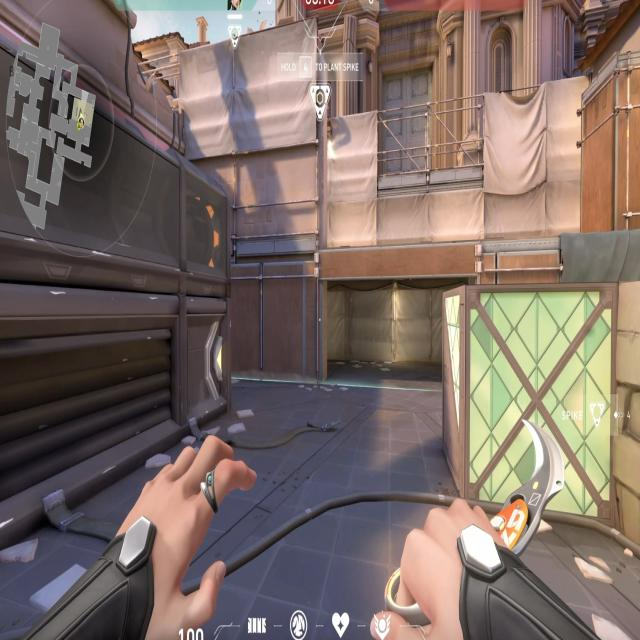A_Heaven_Box: (578, 45, 640, 233)
A_Heaven_Wall: (176, 15, 322, 258)
A_Hell: (314, 239, 484, 394)
A_Site_Box: (443, 286, 640, 558)
